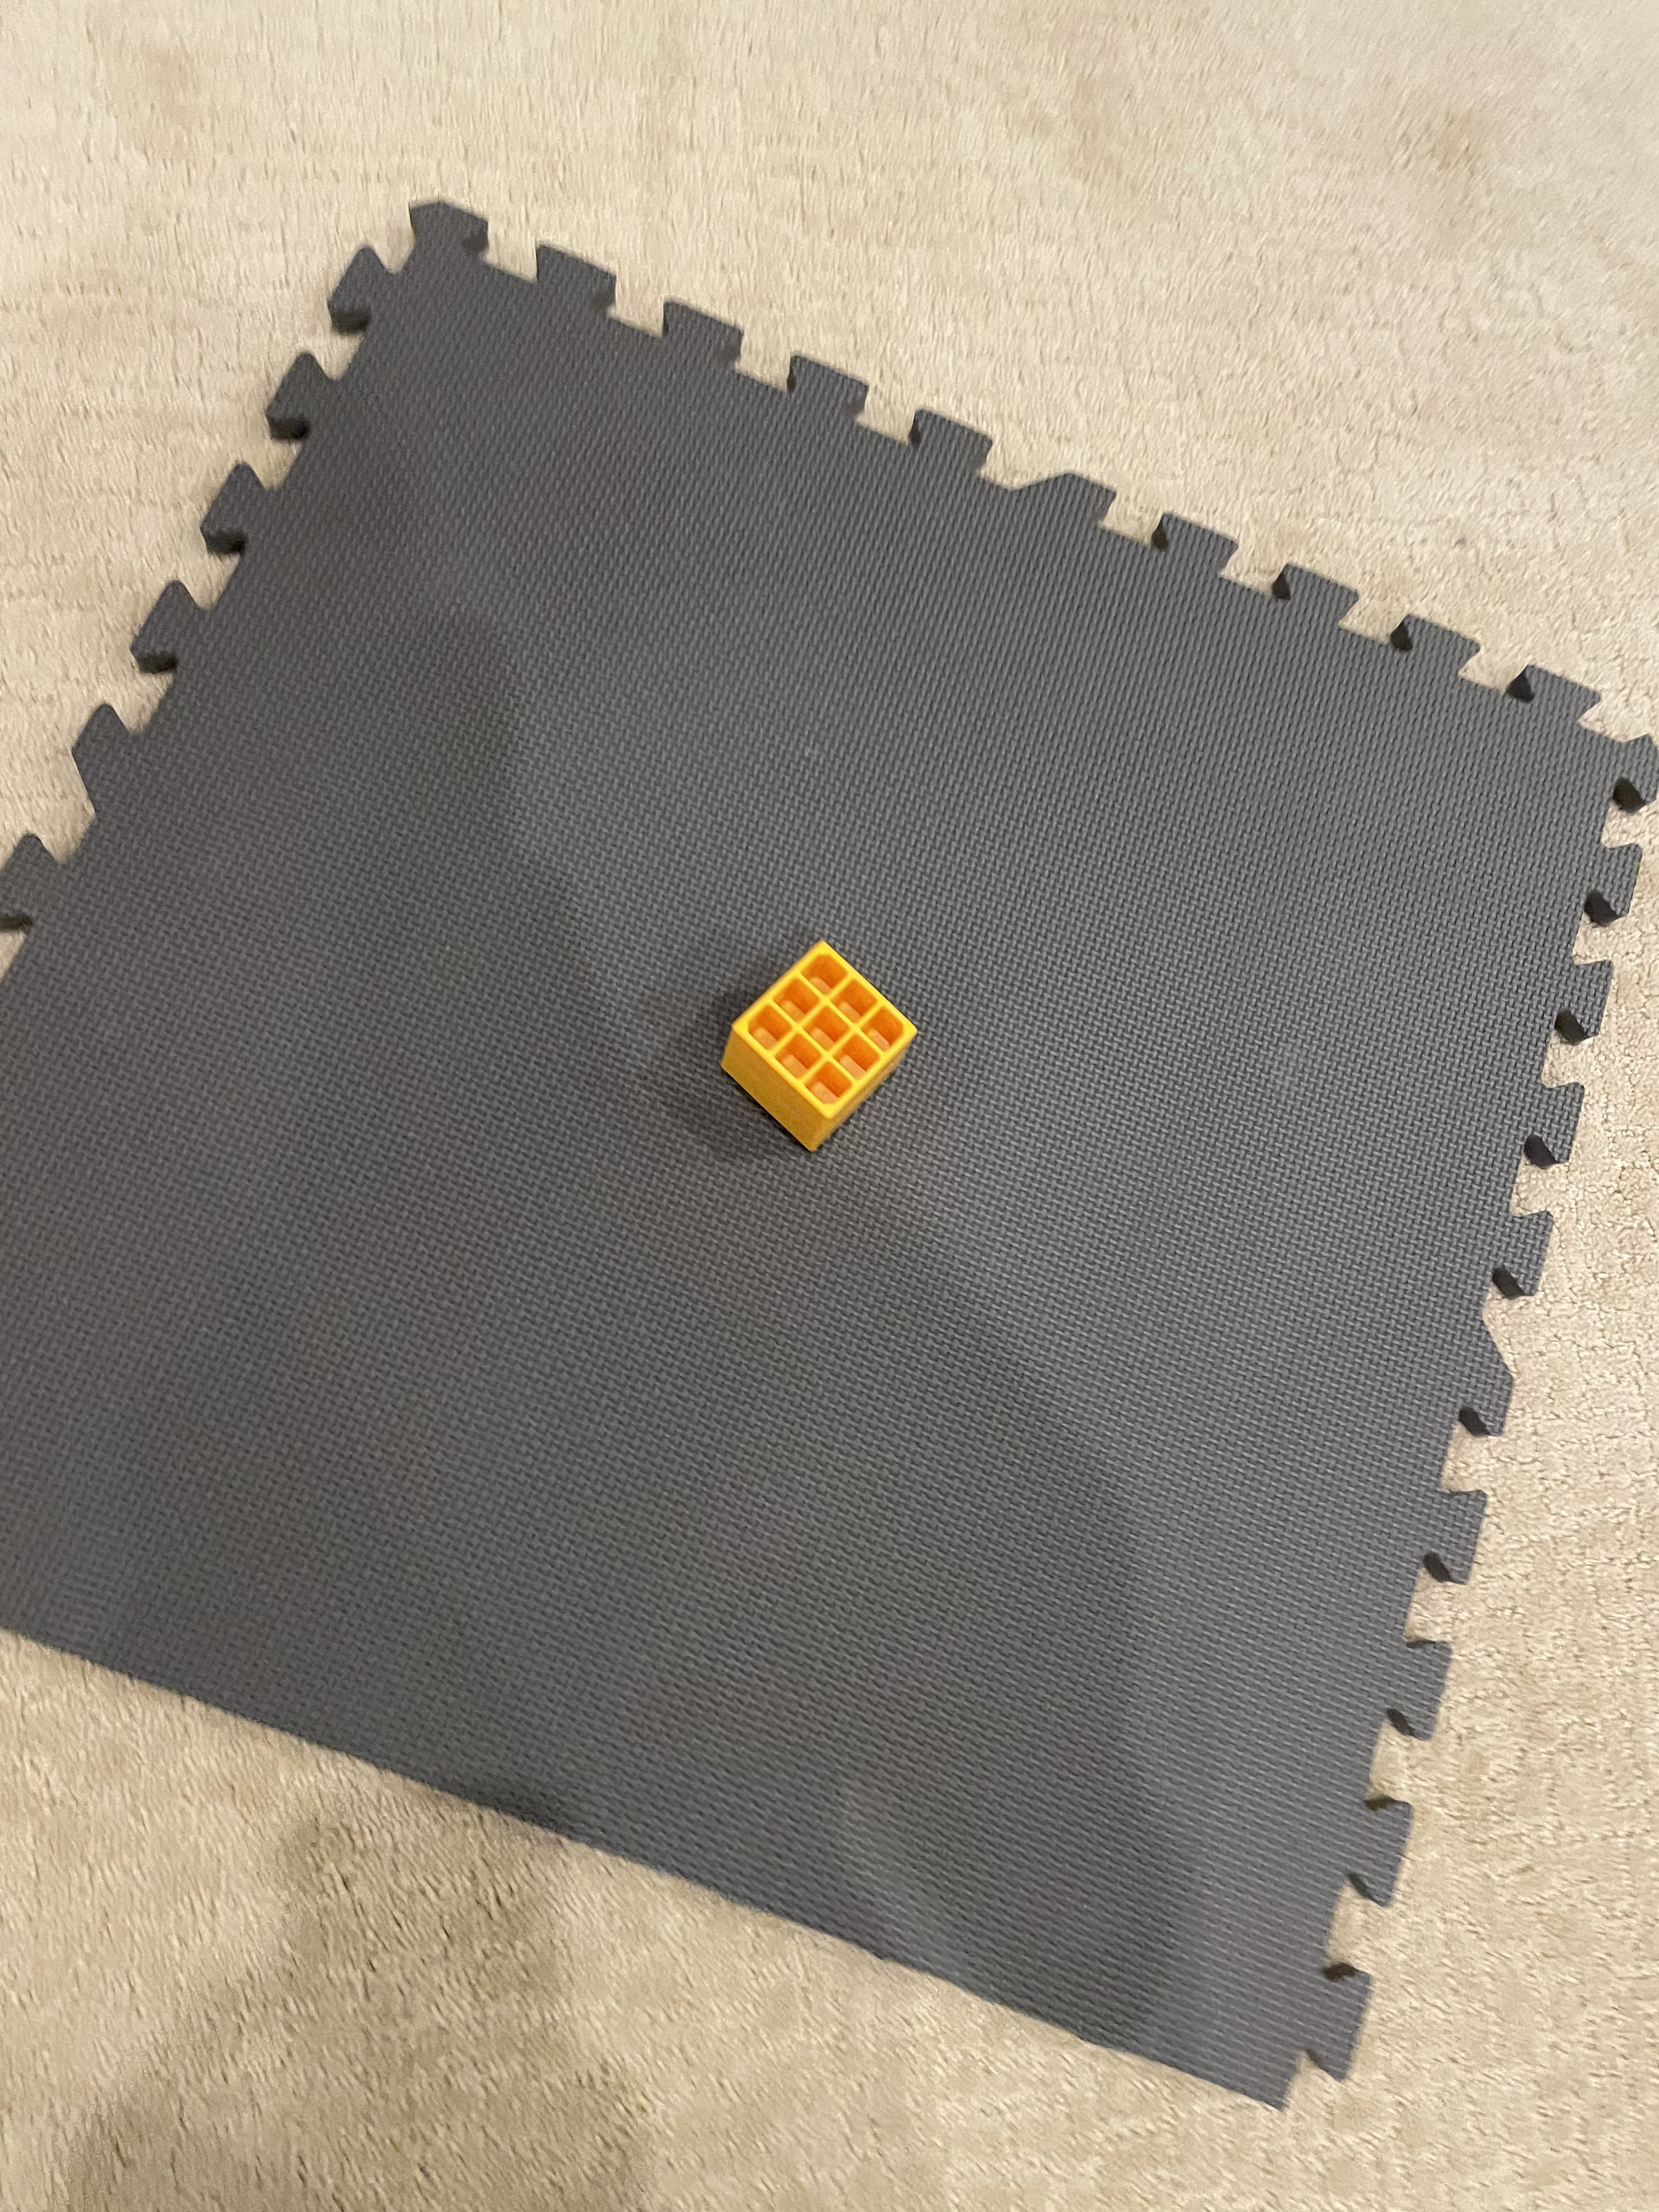cube: (713, 902, 960, 1224)
